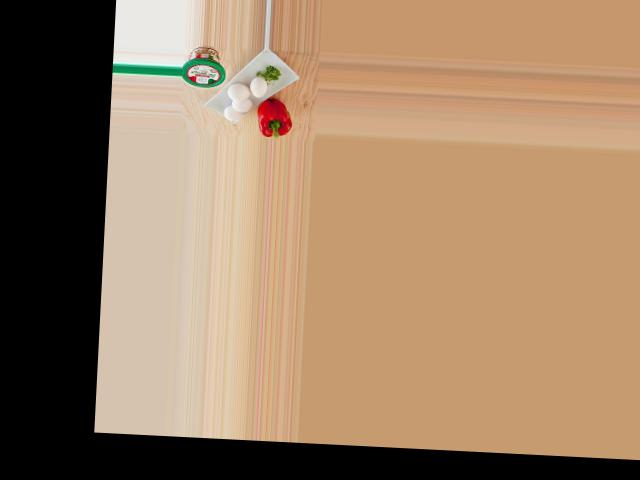bell_pepper: (250, 98, 295, 137)
